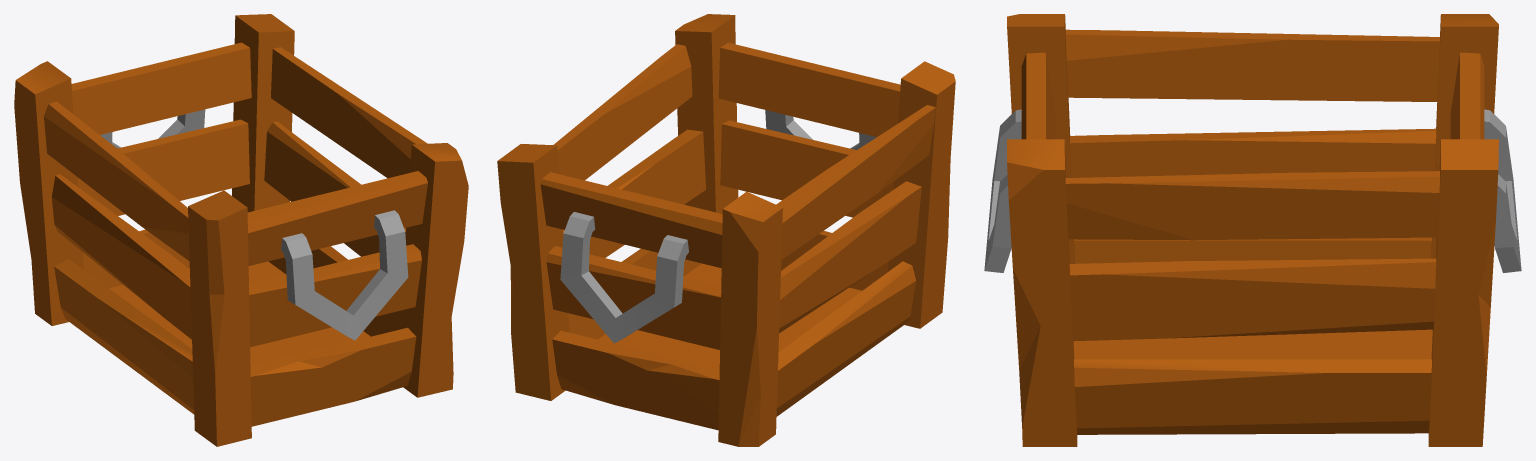
Rendered from Crate.fbx.
3 renders of one model, left to right at view 1: azimuth 30°, elevation 25°; view 2: azimuth 150°, elevation 25°; view 3: azimuth 270°, elevation 25°, orthographic. The views are drawn at different scales.
Visible parts, largest first — view 1: Crate; view 2: Crate; view 3: Crate.
Boxes of the visible parts, box(x1,y1,x2,y2) form: Crate: box(14, 14, 468, 446); Crate: box(497, 14, 955, 446); Crate: box(984, 14, 1521, 446).
Bounding box in the file's own units: 14.96 × 13.12 × 21.8.
